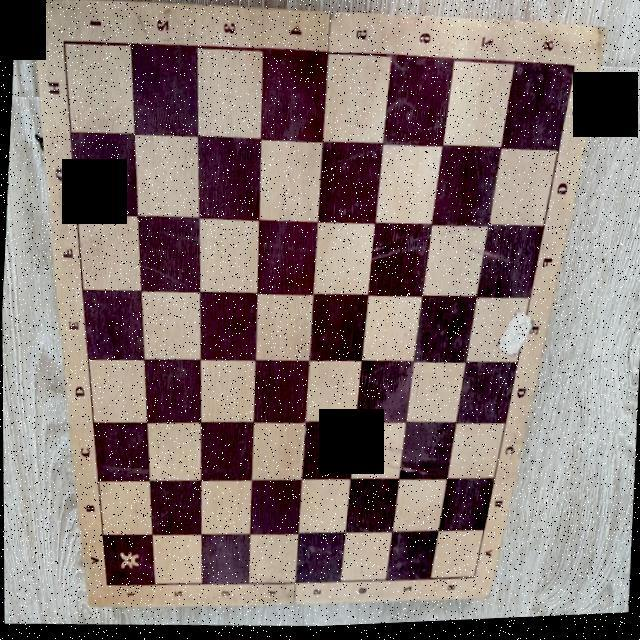chess-table-corners: (55, 31, 74, 58), (566, 60, 584, 84), (101, 578, 113, 594), (468, 576, 478, 589)
